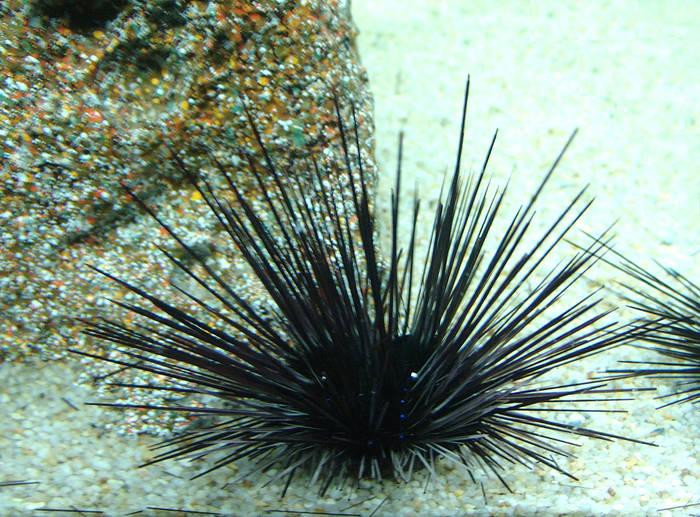urchin: (63, 70, 700, 500)
